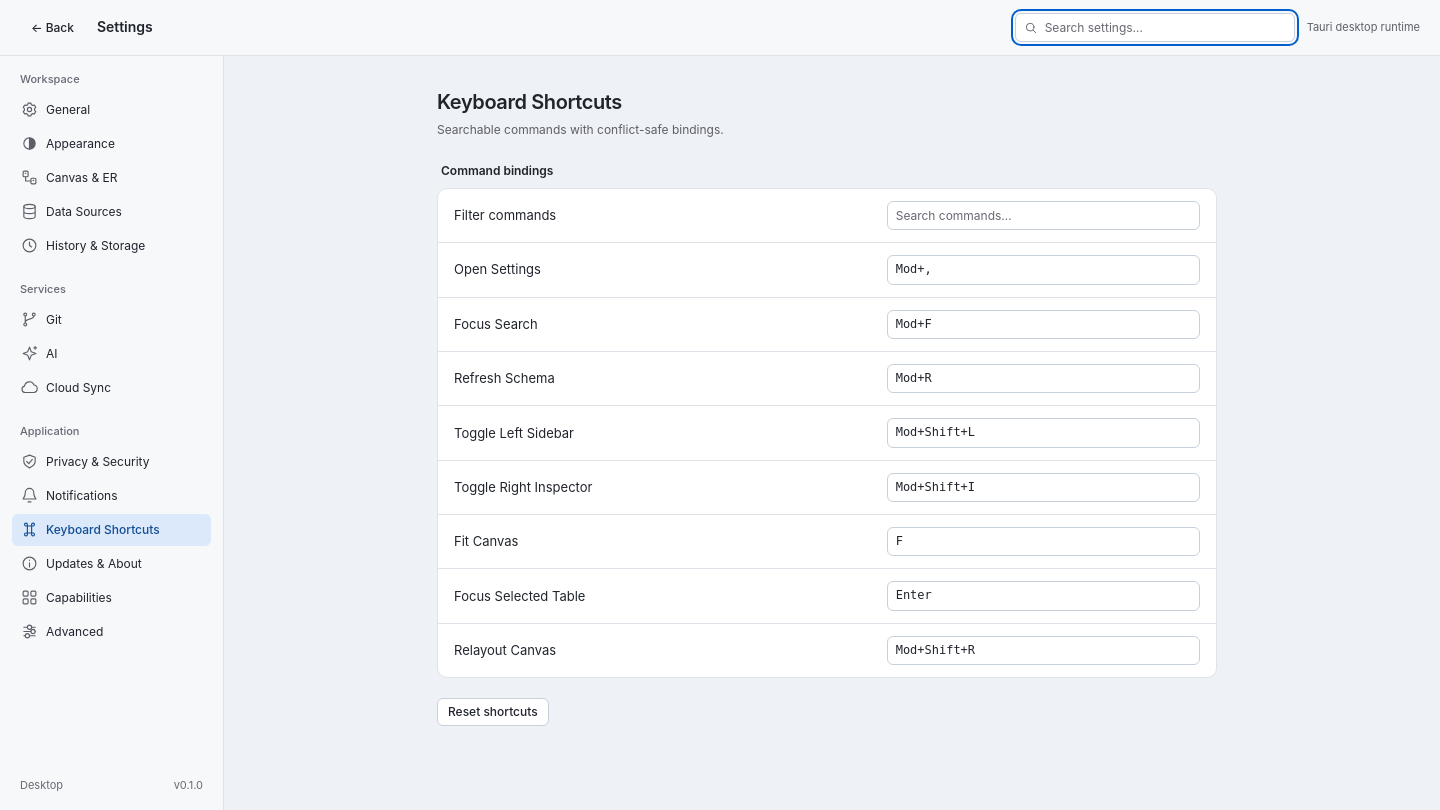
SettingsPage › rejects conflicting custom shortcuts before saving
Replace the text in the field labelled "Refresh Schema" with "Mod+,": x=1043, y=379 x1=887 y1=364 x2=1200 y2=393
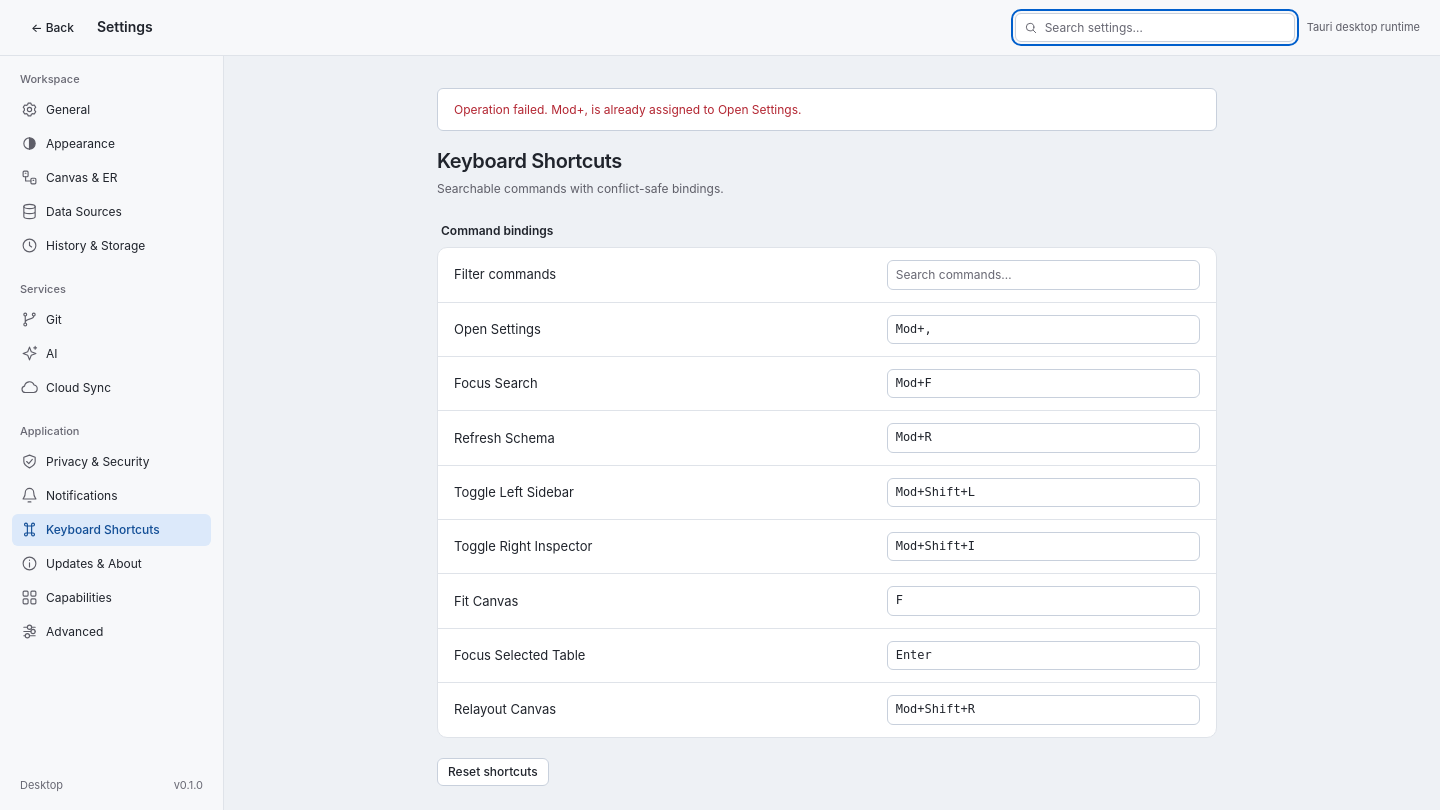
expect the text "Mod+, is already assigned to Open Settings." is shown: met, box x1=551 y1=102 x2=801 y2=117
